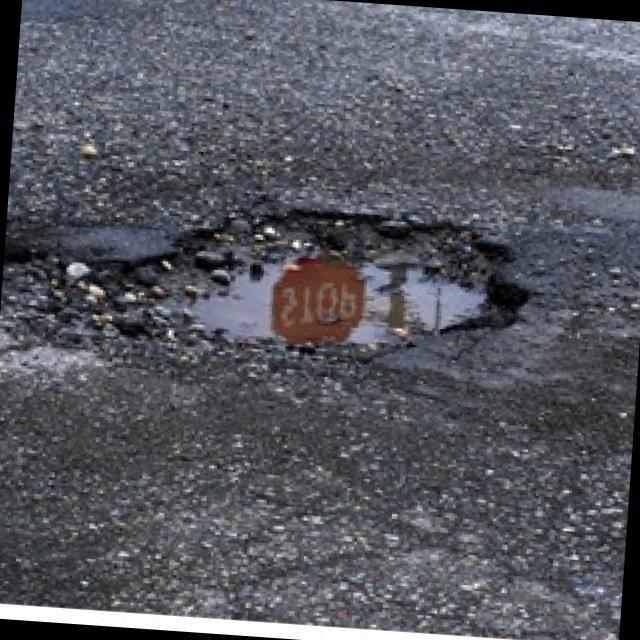Pothole: (140, 194, 536, 378)
